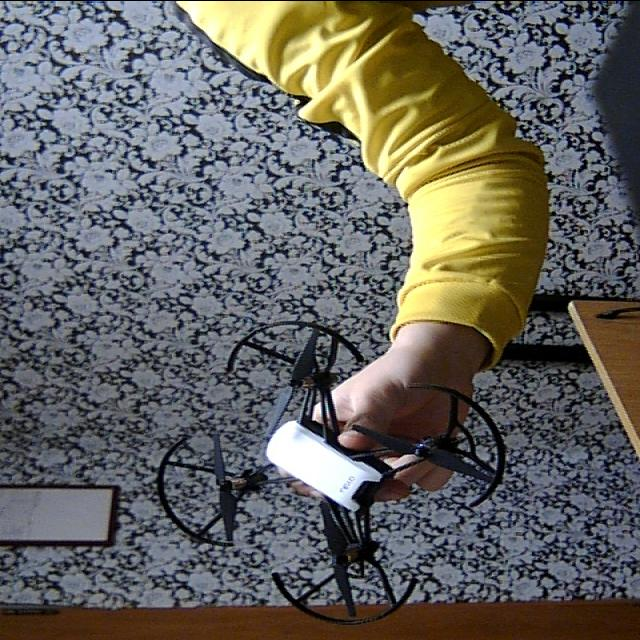drone: (149, 319, 511, 627)
